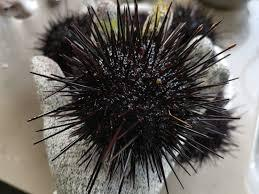urchin: (41, 4, 228, 188)
